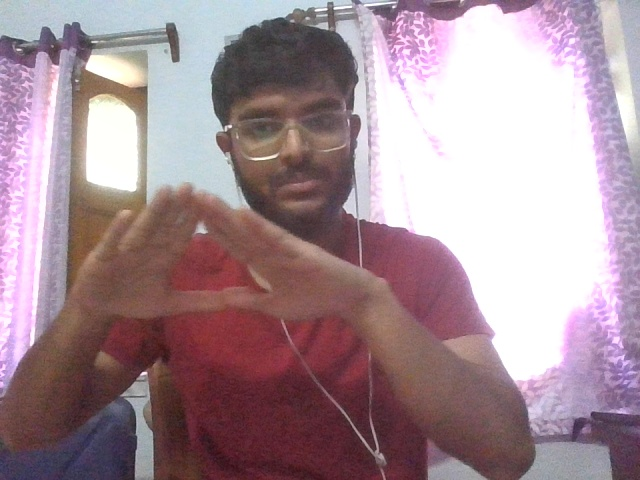ThankYou: (71, 183, 383, 319)
